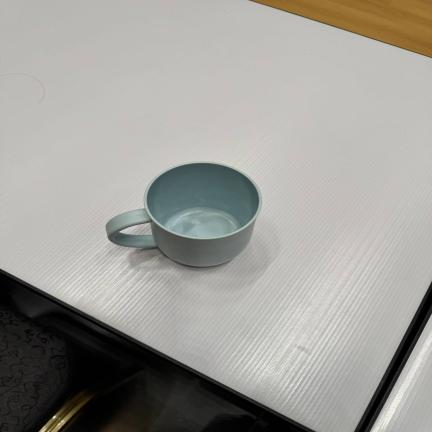cup: (106, 162, 261, 267)
